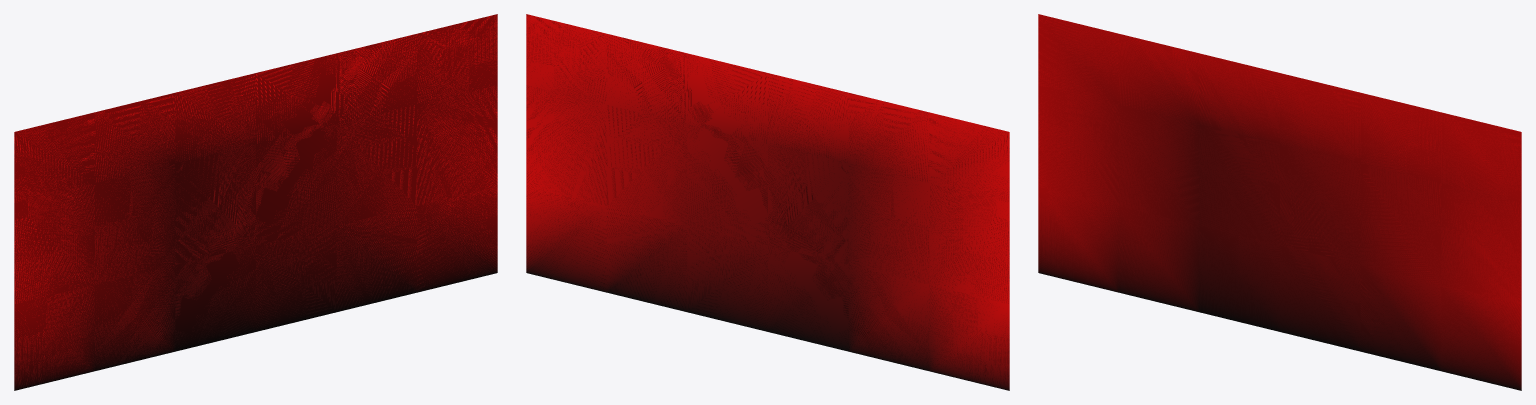
Rendered from rye_plane_3.fbx.
3 renders of one model, left to right at view 1: azimuth 30°, elevation 25°; view 2: azimuth 150°, elevation 25°; view 3: azimuth 330°, elevation 25°, orthographic.
Parts seen in each view (by area): view 1: rye_plane_3; view 2: rye_plane_3; view 3: rye_plane_3.
Boxes of the visible parts, left/top/right/bottom form: rye_plane_3: left=14, top=14, right=497, bottom=390; rye_plane_3: left=526, top=14, right=1009, bottom=390; rye_plane_3: left=1038, top=14, right=1521, bottom=390.
Size of the model in its own units: 536 by 274 by 0.
